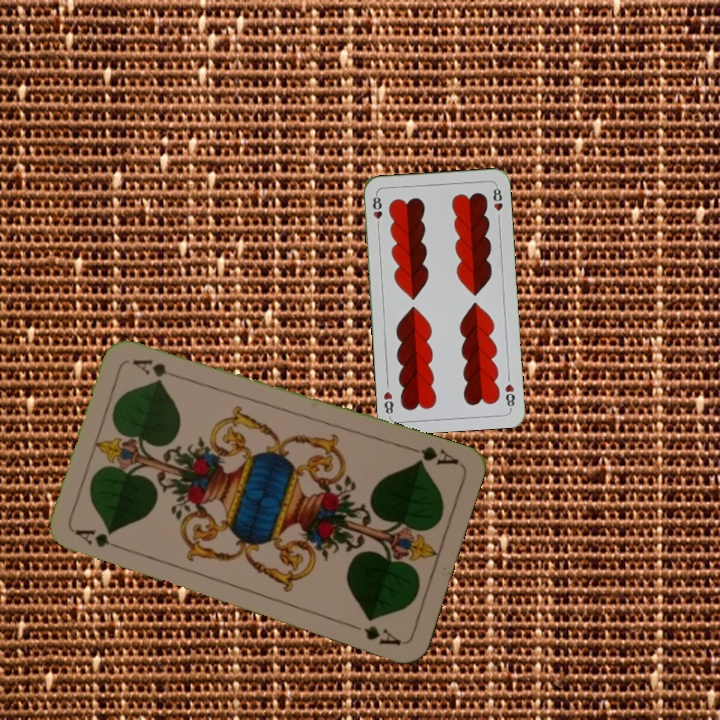GA: (71, 525, 128, 554), (403, 441, 461, 468)
H8: (369, 191, 385, 231), (501, 380, 517, 411)
